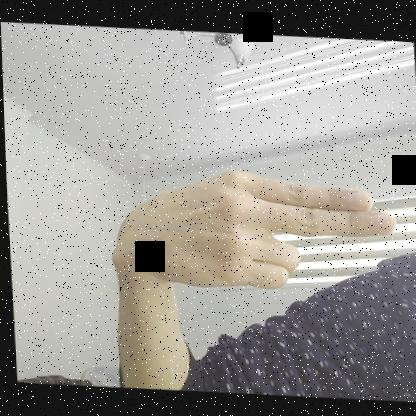H: (106, 154, 399, 299)
